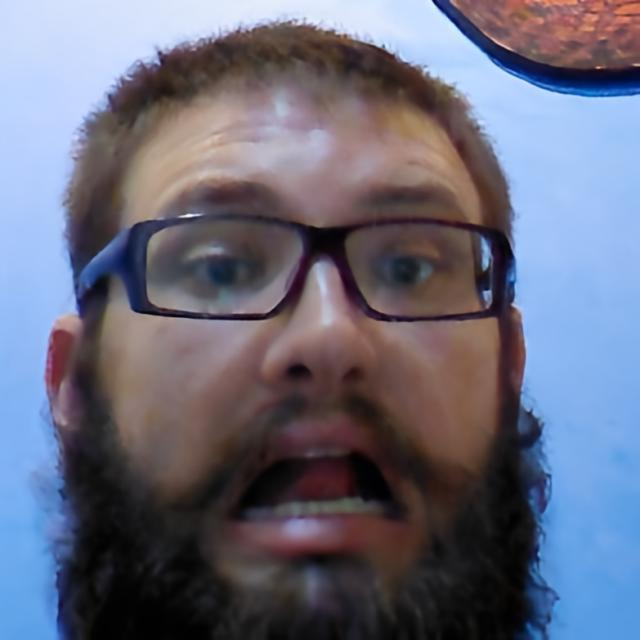fear: (100, 100, 497, 602)
